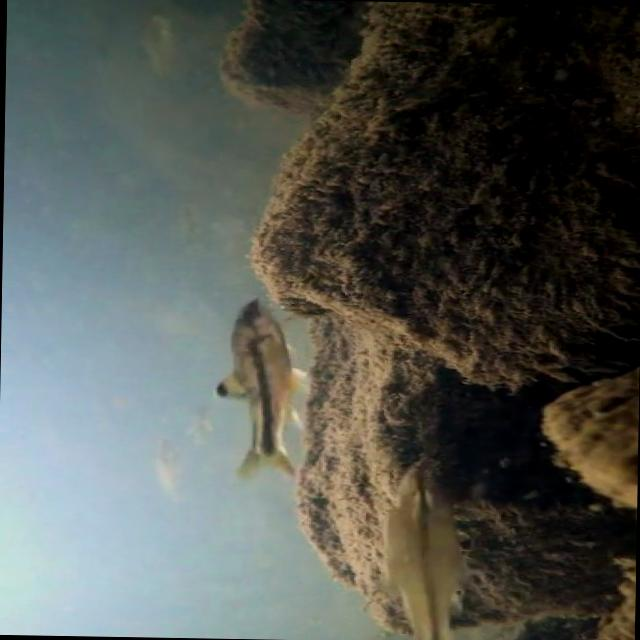Cakil Baligi: (208, 291, 302, 483)
